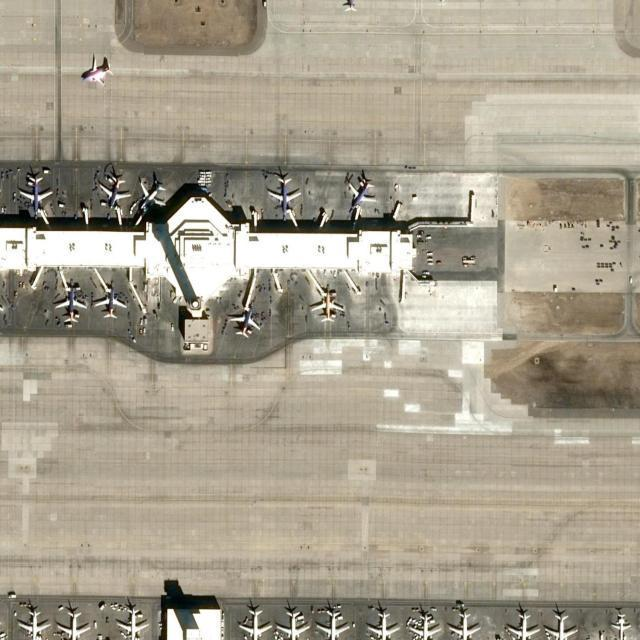Aircraft: (15, 172, 54, 214), (265, 173, 301, 215), (96, 171, 131, 211), (91, 282, 127, 320), (55, 285, 89, 325), (237, 600, 271, 640), (55, 603, 91, 640), (227, 301, 261, 340), (16, 603, 52, 639), (311, 287, 346, 323), (318, 603, 352, 640), (275, 605, 311, 639), (115, 604, 149, 640), (135, 176, 168, 213), (345, 173, 377, 211), (544, 607, 580, 640), (506, 607, 541, 640), (366, 609, 401, 640), (81, 54, 113, 87), (449, 608, 482, 640), (408, 610, 442, 640), (611, 612, 630, 640), (338, 0, 357, 13)
